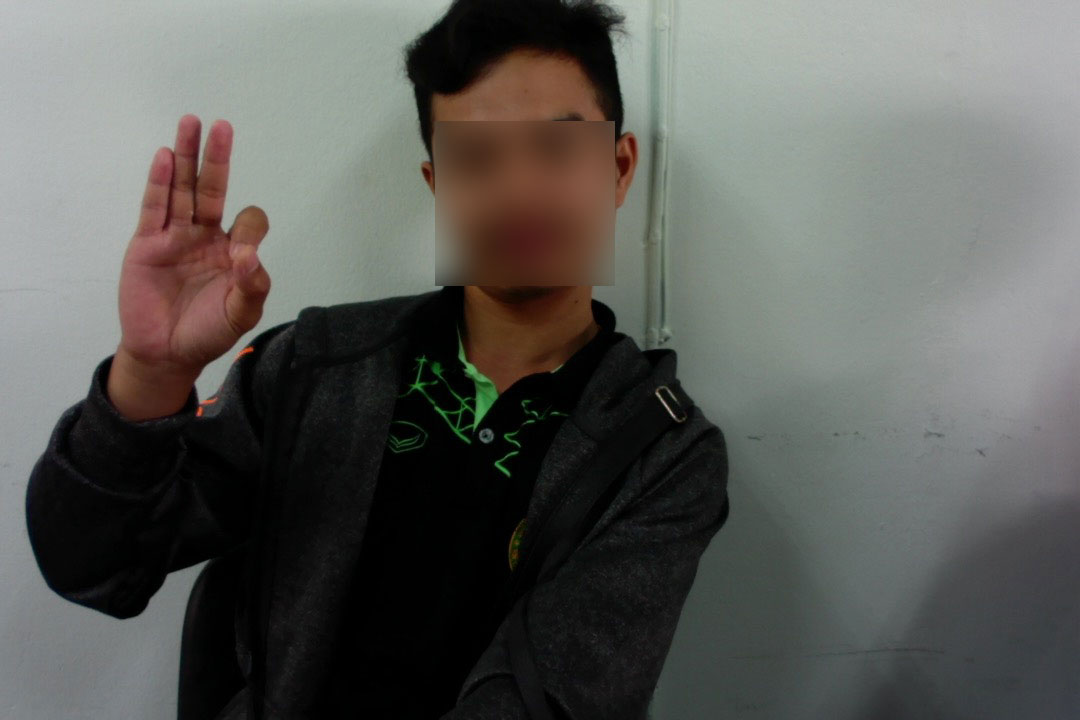for: (95, 110, 278, 371)
